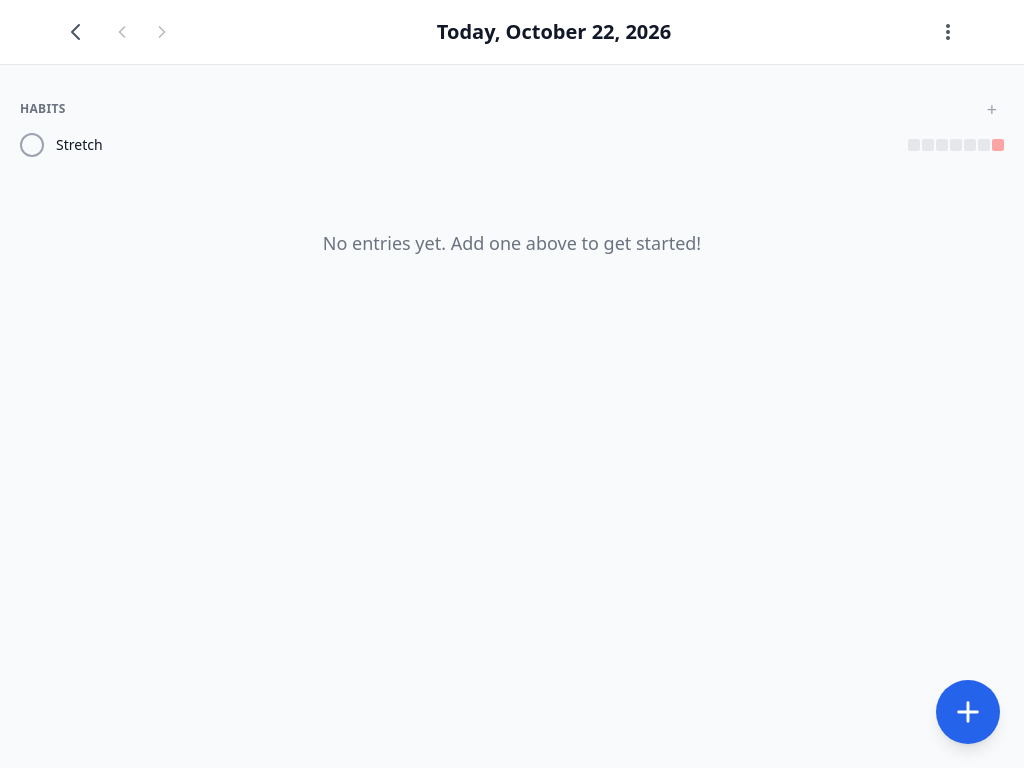
Test: CollectionDetailView - Habits section for daily collections › keeps a relative habit visible and completed after marking it complete
Click the button named "Mark habit complete" at (32, 145), box [20,133,44,157]
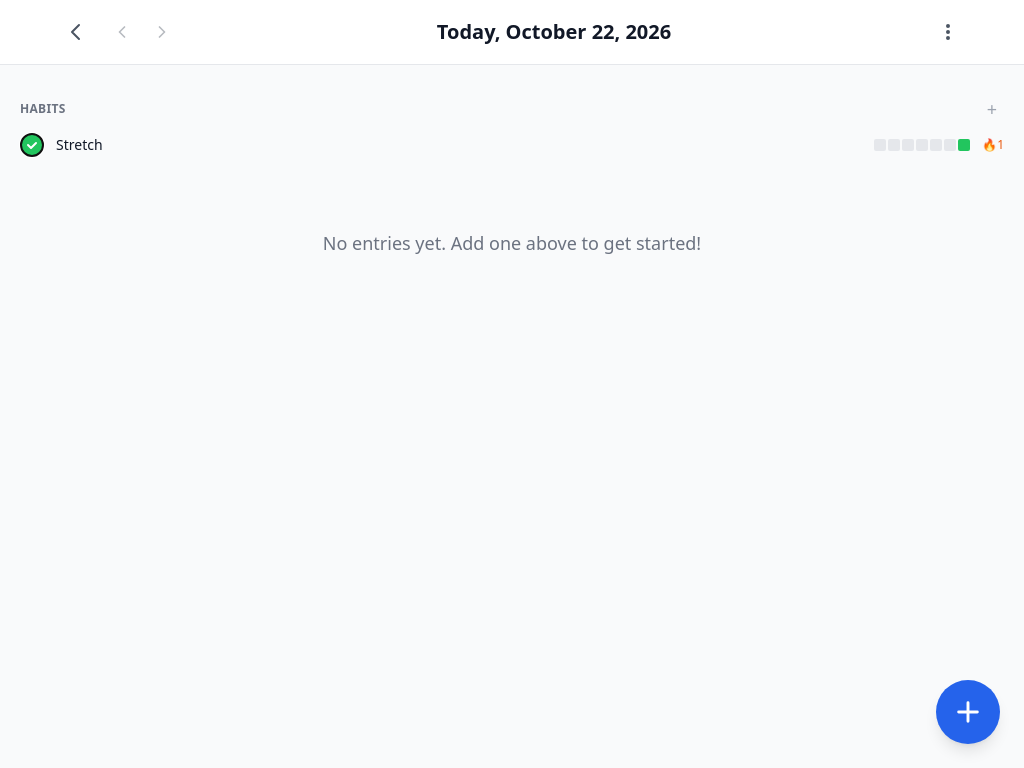
Expected: the button "Stretch" is shown, [56,135,862,155]
Expected: the button named "Revert completed habit" is shown, [20,133,44,157]
